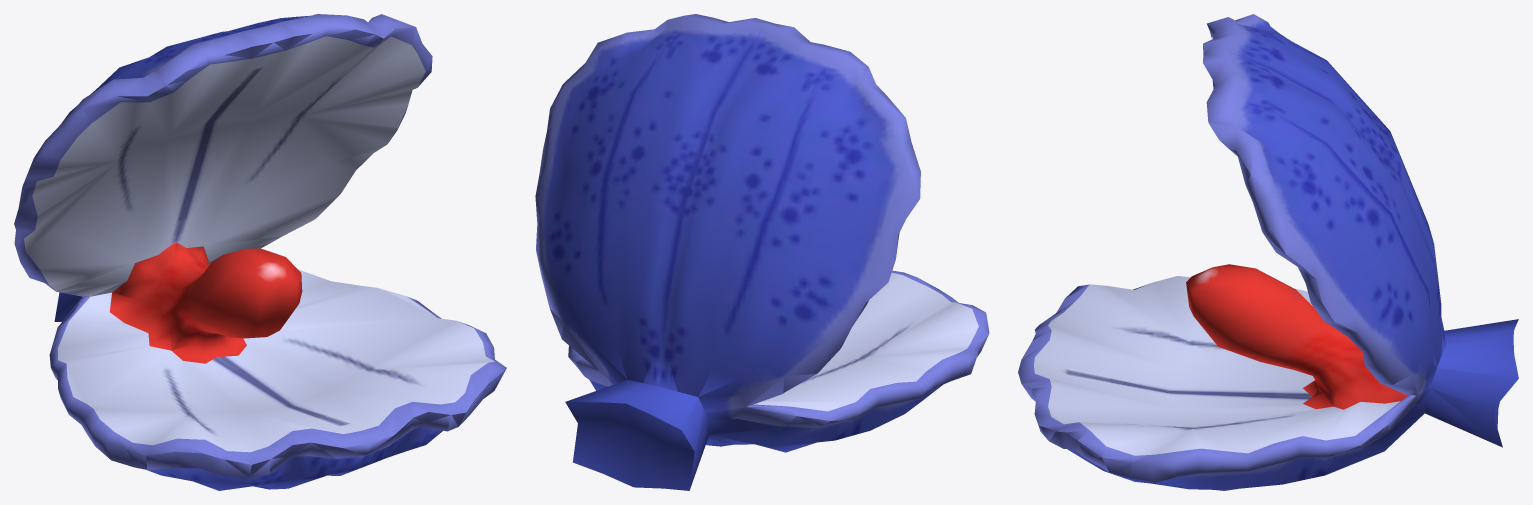
The model's file is Pearl Clam.fbx.
3 renders of one model, left to right at view 1: azimuth 30°, elevation 25°; view 2: azimuth 150°, elevation 25°; view 3: azimuth 270°, elevation 25°, orthographic. The views are drawn at different scales.
Parts seen in each view (by area): view 1: Clam; view 2: Clam; view 3: Clam.
Boxes of the visible parts, x1,y1,x2,y2 form: Clam: [14, 14, 506, 490]; Clam: [535, 14, 989, 490]; Clam: [1018, 14, 1518, 490].
Bounding box in the file's own units: 201 × 206 × 225.
Materials: 1 (1 with a texture image).
